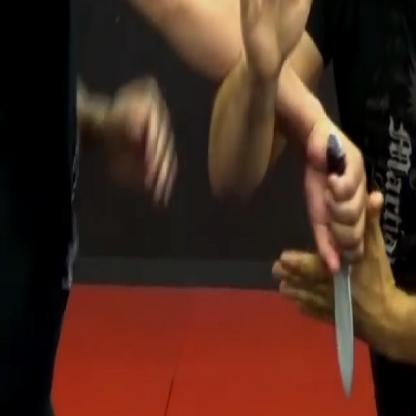knife: (300, 141, 367, 400)
